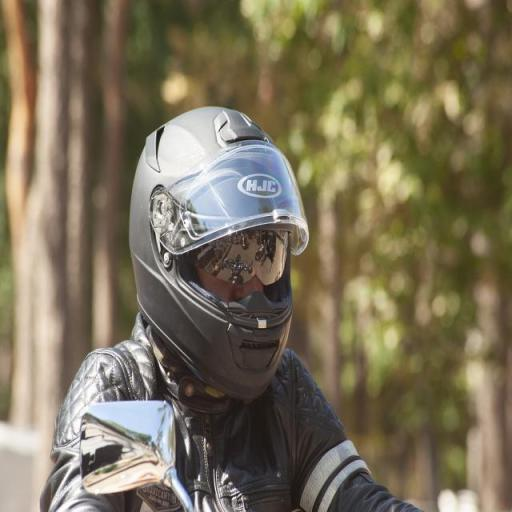Helmet: (134, 113, 312, 402)
